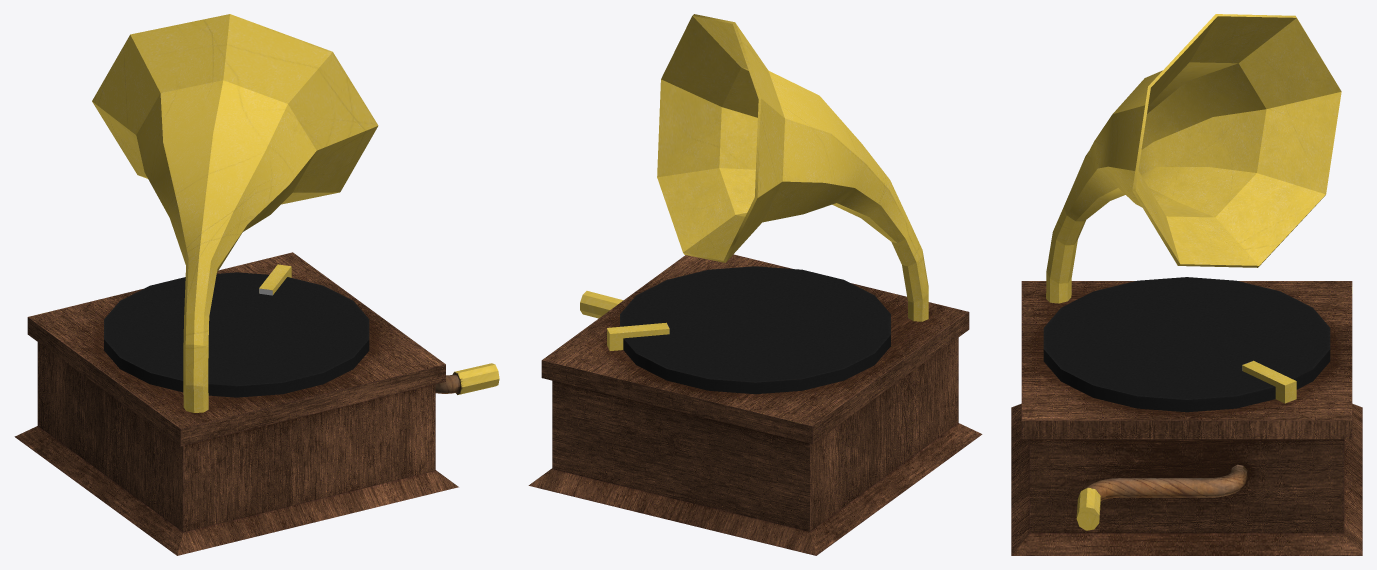
The model's file is ASM - PBR Metallic Roughness.glb.
3 renders of one model, left to right at view 1: azimuth 30°, elevation 25°; view 2: azimuth 150°, elevation 25°; view 3: azimuth 270°, elevation 25°, orthographic. The views are drawn at different scales.
Visible parts, largest first — view 1: Cylinder001; view 2: Cylinder001; view 3: Cylinder001.
Boxes of the visible parts, bbox=[...] form: Cylinder001: bbox=[14, 14, 499, 555]; Cylinder001: bbox=[528, 14, 982, 555]; Cylinder001: bbox=[1011, 14, 1362, 555].
Bounding box in the file's own units: 0.6767 × 0.7991 × 0.54.
Materials: 1 (1 with a texture image).
